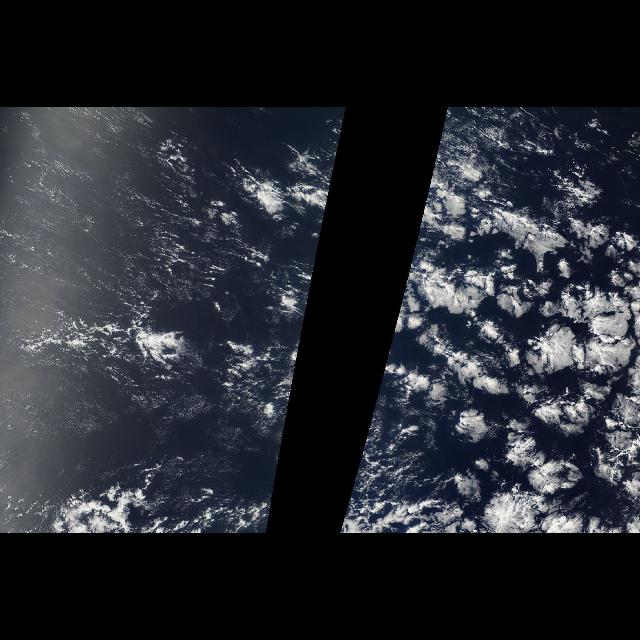Flower: (359, 113, 639, 532)
Sugar: (1, 107, 221, 405)
